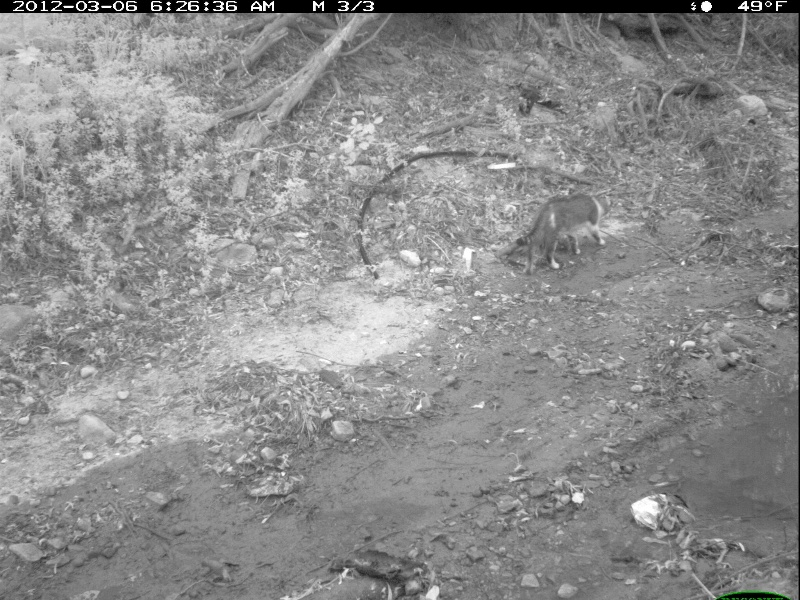cat: (505, 189, 614, 277)
